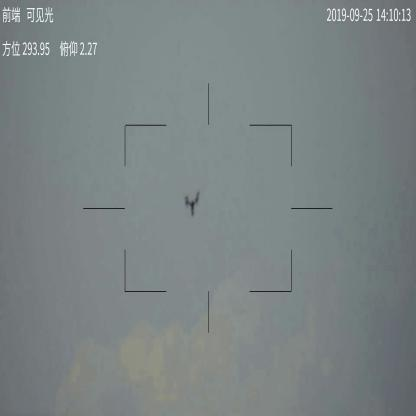uav: (183, 191, 201, 217)
